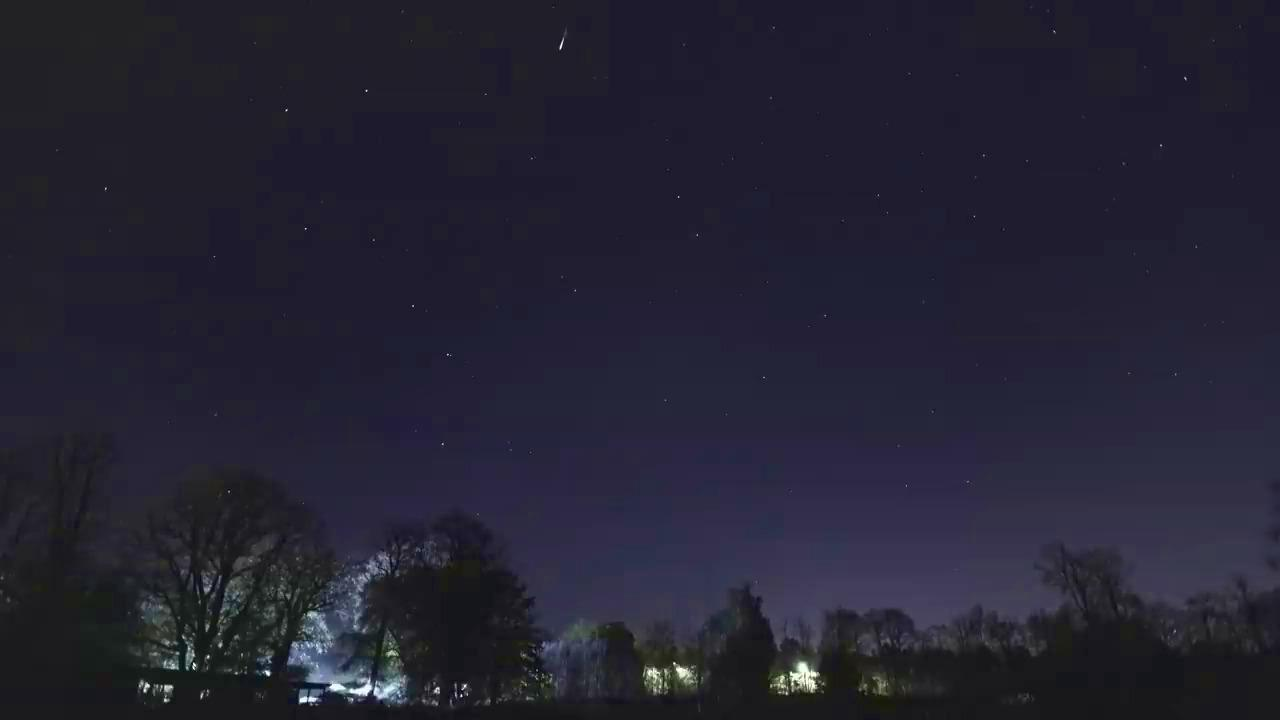meteorite: (519, 23, 611, 55)
